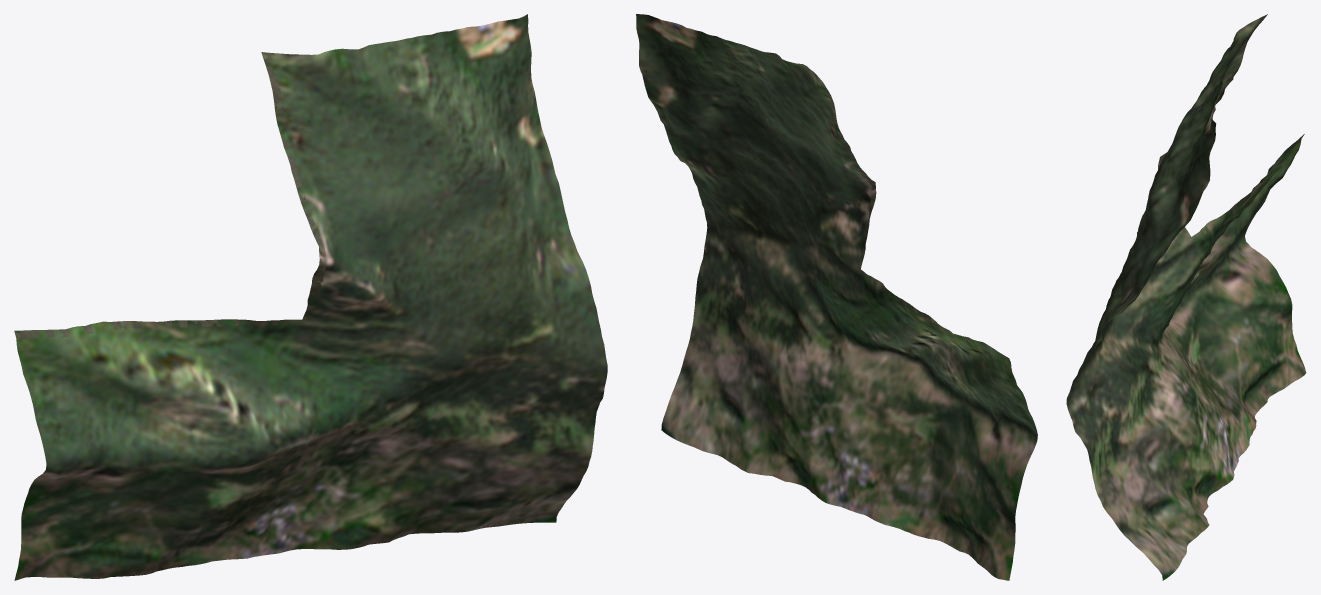
File: ground_far_02_01.obj
3 renders of one model, left to right at view 1: azimuth 30°, elevation 25°; view 2: azimuth 150°, elevation 25°; view 3: azimuth 270°, elevation 25°, orthographic. The views are drawn at different scales.
Parts seen in each view (by area): view 1: ground_far_02_01; view 2: ground_far_02_01; view 3: ground_far_02_01.
Part boxes in pixels (bbox=[...]): ground_far_02_01: bbox=[14, 14, 607, 580]; ground_far_02_01: bbox=[636, 14, 1037, 580]; ground_far_02_01: bbox=[1066, 14, 1306, 580].
Size of the model in its own units: 2000 by 2000 by 951.
Materials: 1 (1 with a texture image).
